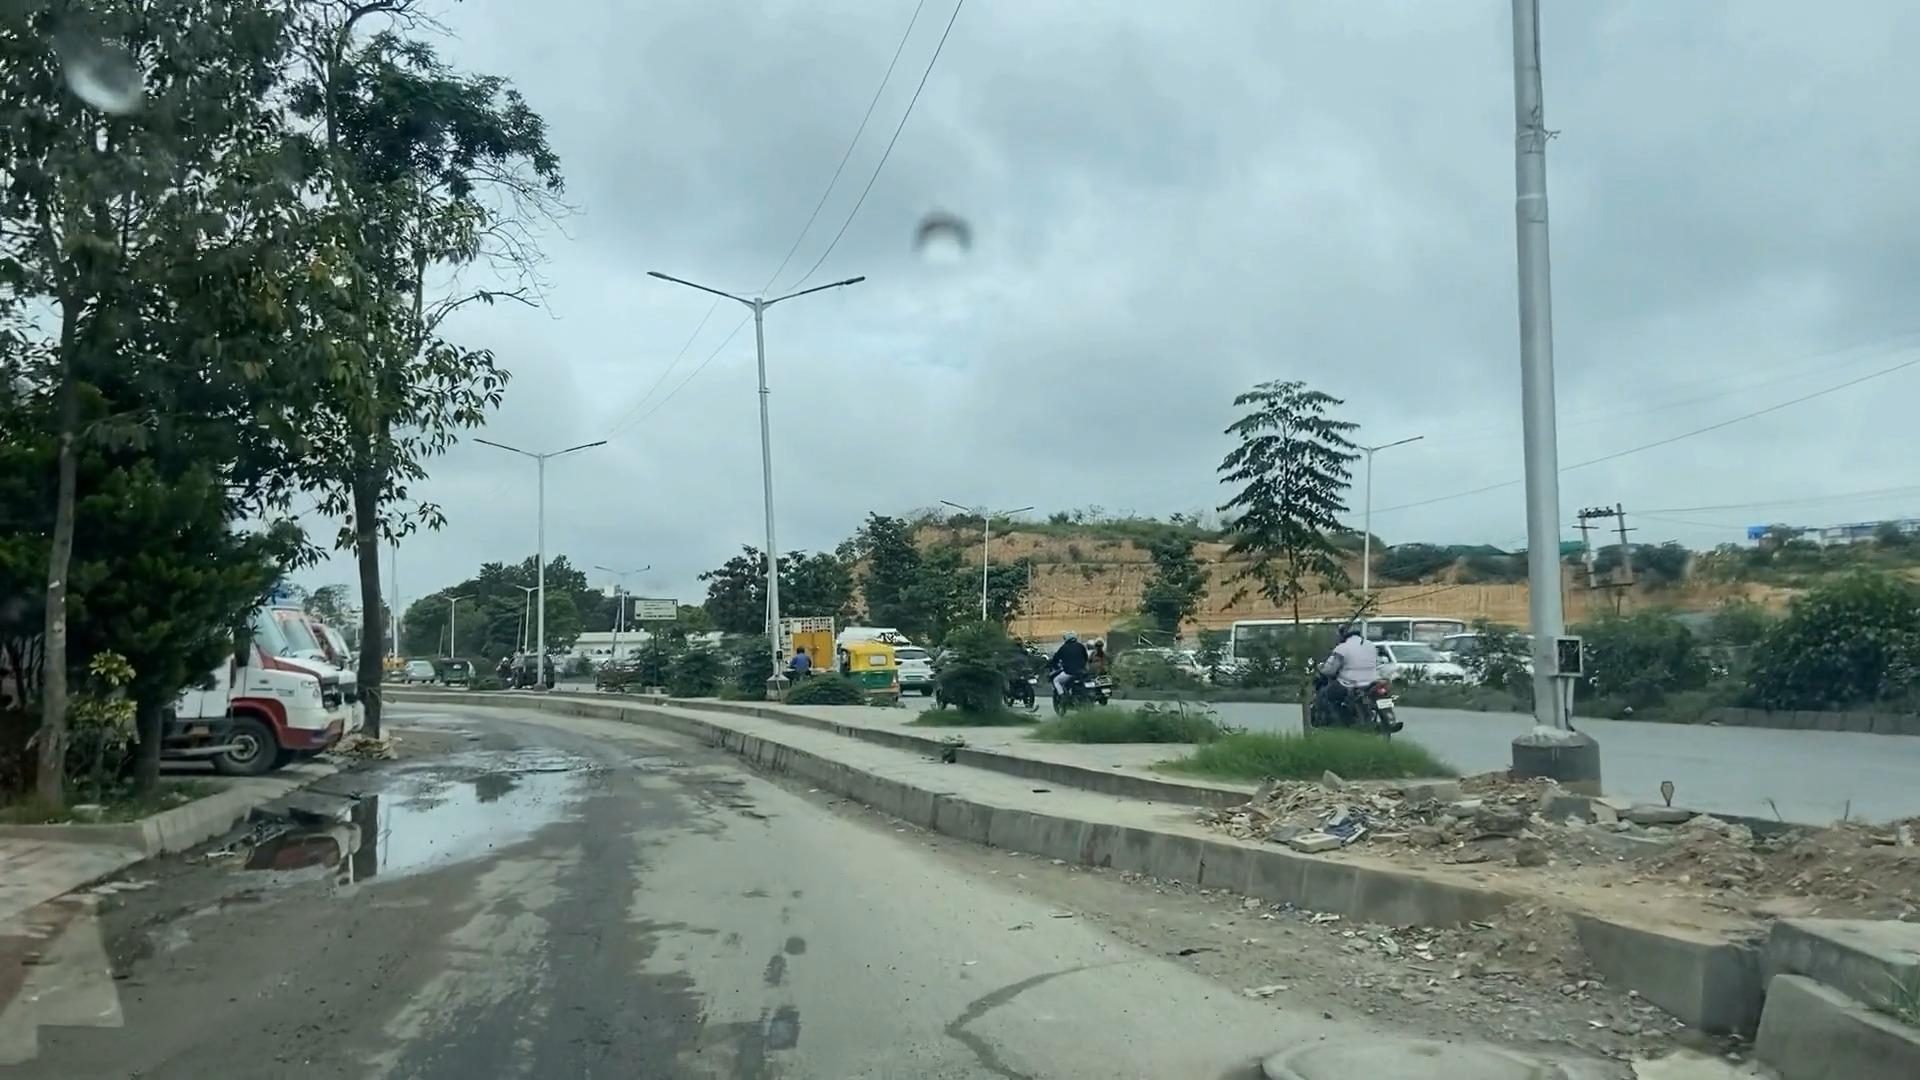RoadDamages: (1223, 1013, 1569, 1080)
